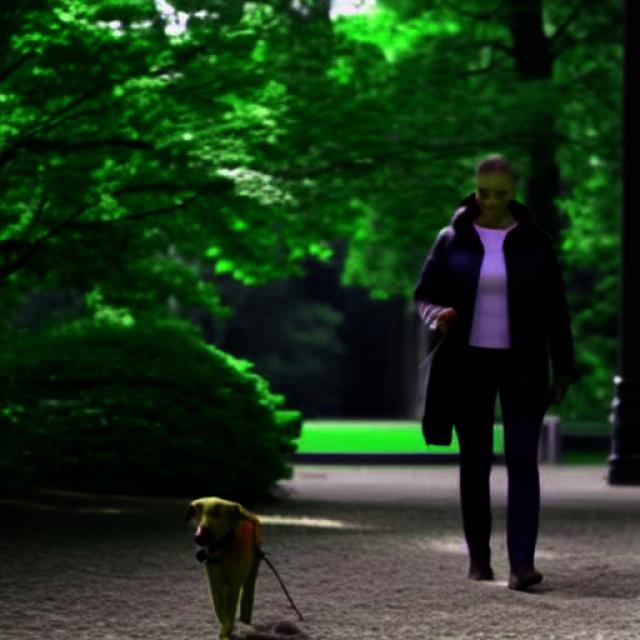Unleashed_Dog: (182, 348, 540, 640)
